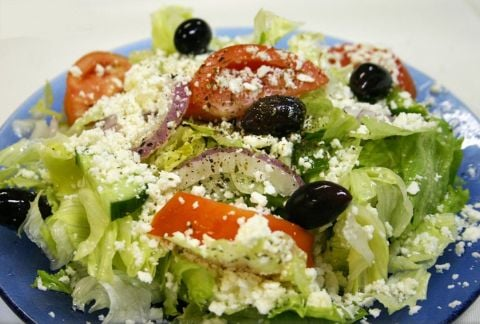sandwich: (2, 20, 471, 318)
